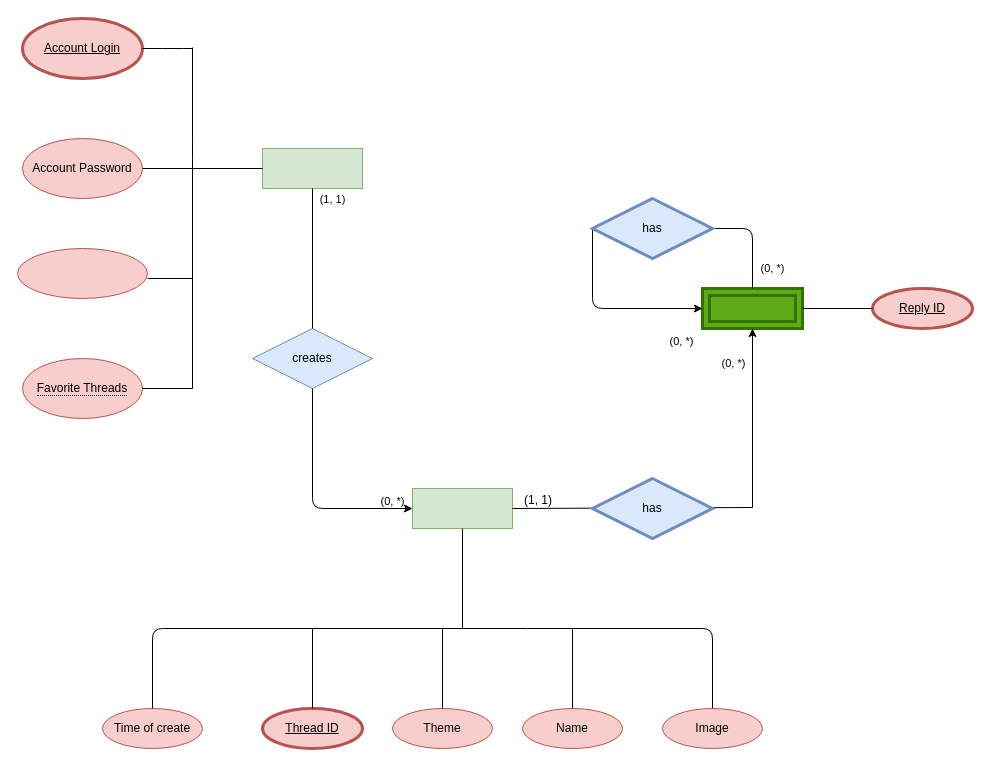
This 991x767 diagram has some shape labels left out. Each missing label, with the centre of its shape:
"Account" belongs at (x=312, y=168).
"Email" belongs at (x=82, y=273).
"Reply" belongs at (x=752, y=308).
"Thread" belongs at (x=462, y=508).
